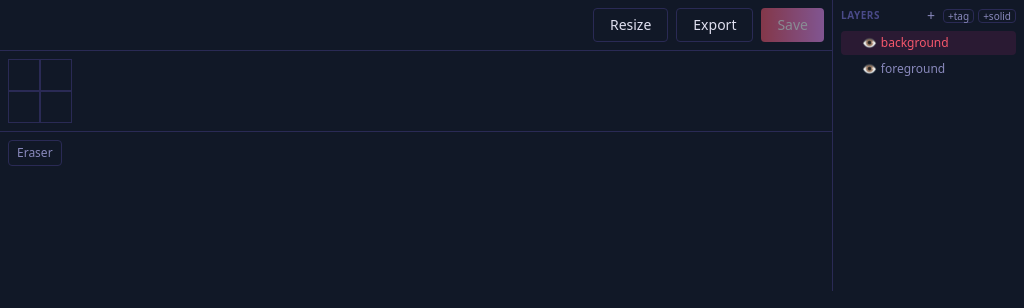
Test case: TileMapEditor › moving the mouse off the grid clears the readout
Expected: the text "background" is shown, [881, 34, 949, 51]
Hover over the cell named "Row 0, Column 1": {"x": 56, "y": 75} [40, 59, 72, 91]
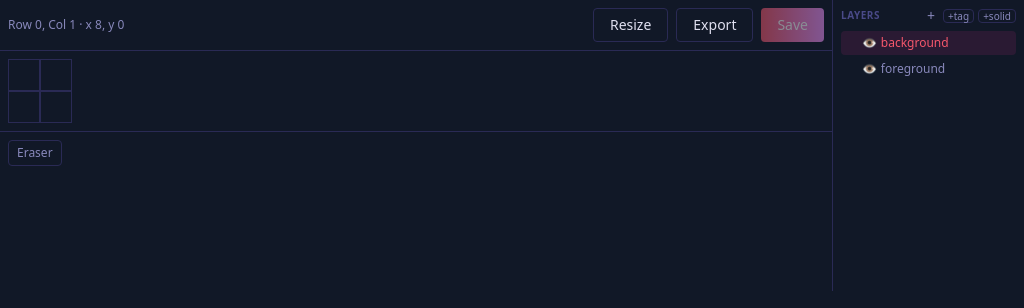
Expected: the text "Row 0, Col 1 · x 8, y 0" is shown, [8, 17, 124, 33]
Move the pointer off the table, box [8, 59, 72, 123]
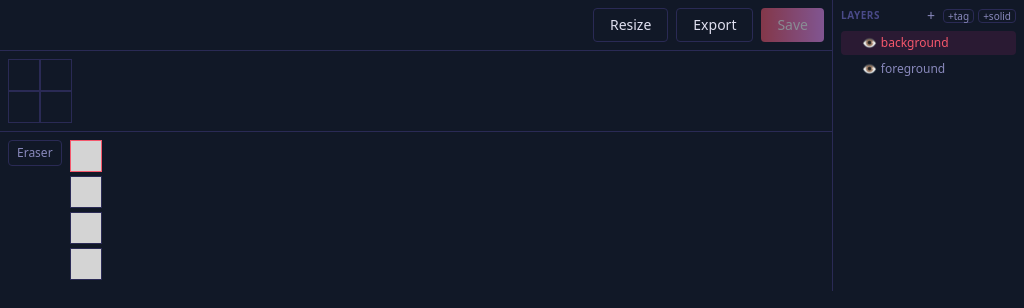
Expected: the text "Row 0, Col 1" is gone
